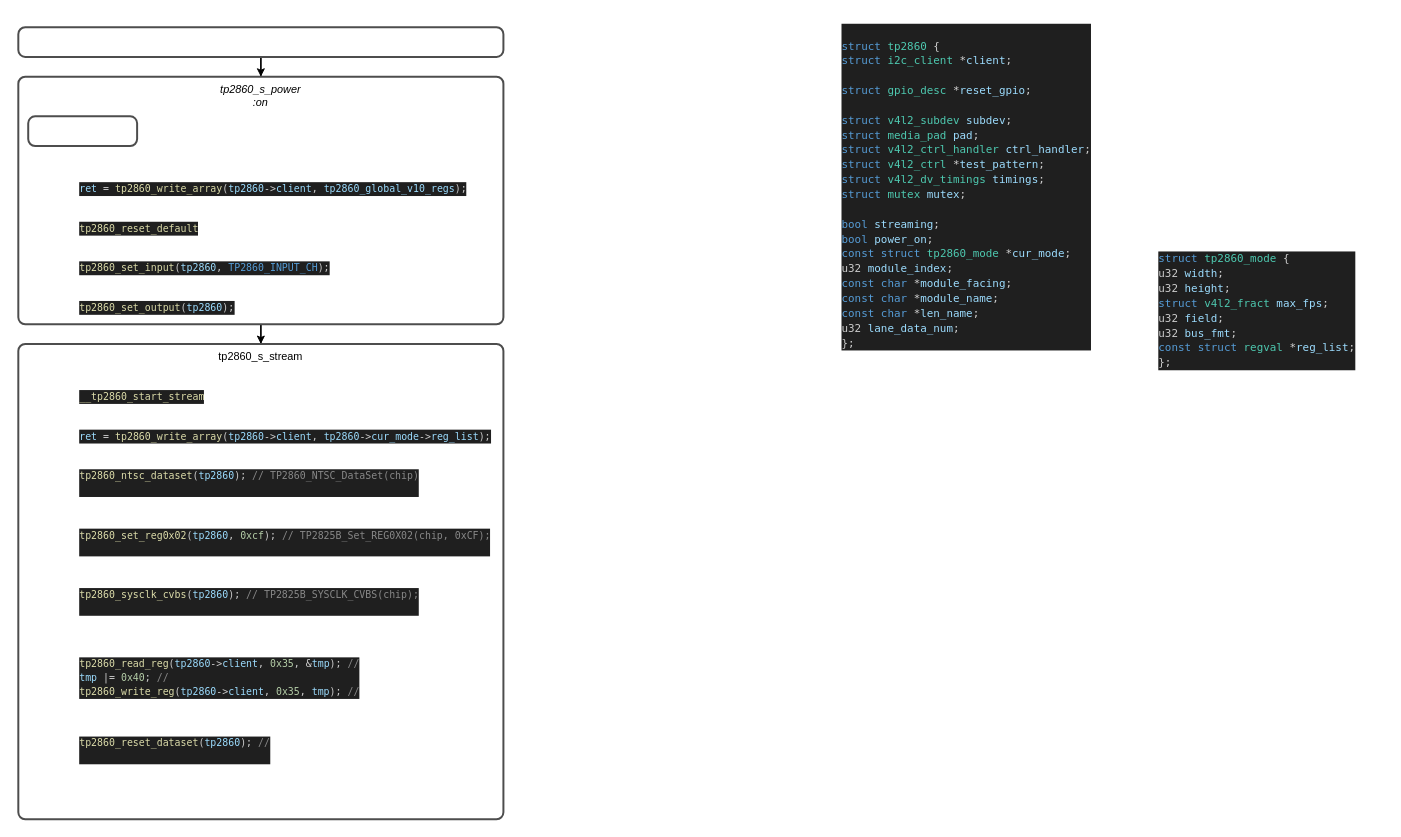
This 1401x837 diagram has some shape labels left out. Here are the shapes that lost their labels. From the top down, the centre of each, then its label:
At pixel 260 41: "tp2860_open".
At pixel 82 131: "__tp2860_power_on".
